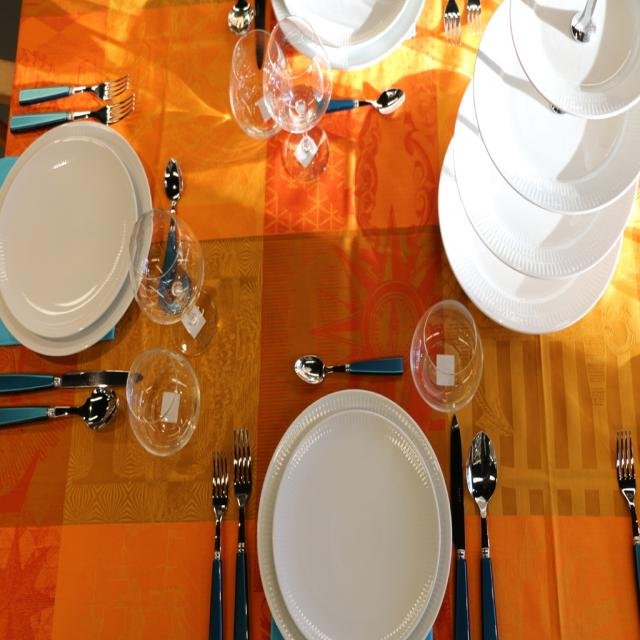non-organic waste: (219, 365, 466, 640), (408, 81, 640, 367), (0, 127, 176, 388)
